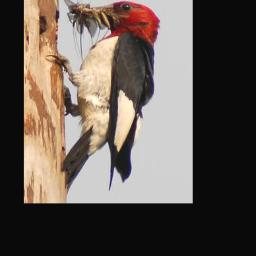Woodpecker: (46, 0, 160, 193)
